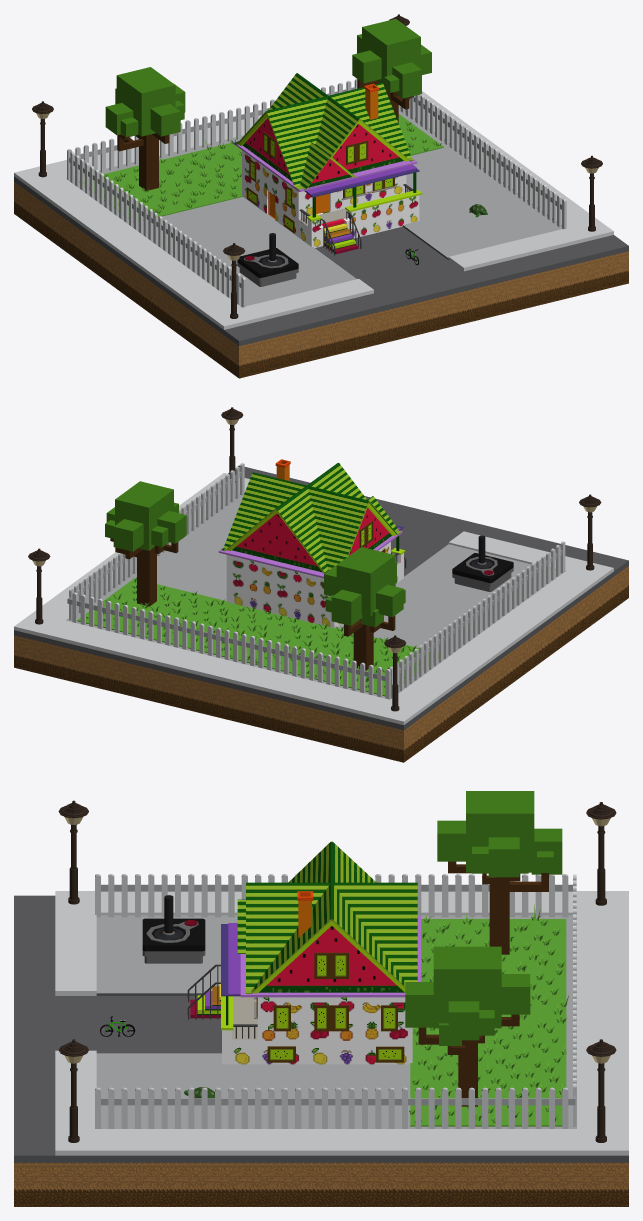
The picture shows the model from 3 angles, top to bottom: view 1: azimuth 30°, elevation 25°; view 2: azimuth 150°, elevation 25°; view 3: azimuth 270°, elevation 25°; orthographic projection. The views are drawn at different scales.
Parts seen in each view (by area): view 1: Cube.004, Cube.1063, OBJRANDOM_JOYSTICK; view 2: Cube.004, Cube.1063, OBJRANDOM_JOYSTICK; view 3: Cube.004, Cube.1063, OBJRANDOM_JOYSTICK.
Part boxes in pixels (<box>): Cube.004: <box>14,14,628,378</box>; Cube.1063: <box>233,73,422,255</box>; OBJRANDOM_JOYSTICK: <box>237,233,298,286</box>; Cube.004: <box>14,407,628,762</box>; Cube.1063: <box>218,459,406,627</box>; OBJRANDOM_JOYSTICK: <box>452,535,513,591</box>; Cube.004: <box>14,791,628,1206</box>; Cube.1063: <box>187,841,421,1064</box>; OBJRANDOM_JOYSTICK: <box>142,895,205,963</box>.
Bounding box in the file's own units: 4000 × 1609 × 4000.
Materials: 37 (5 with a texture image).
